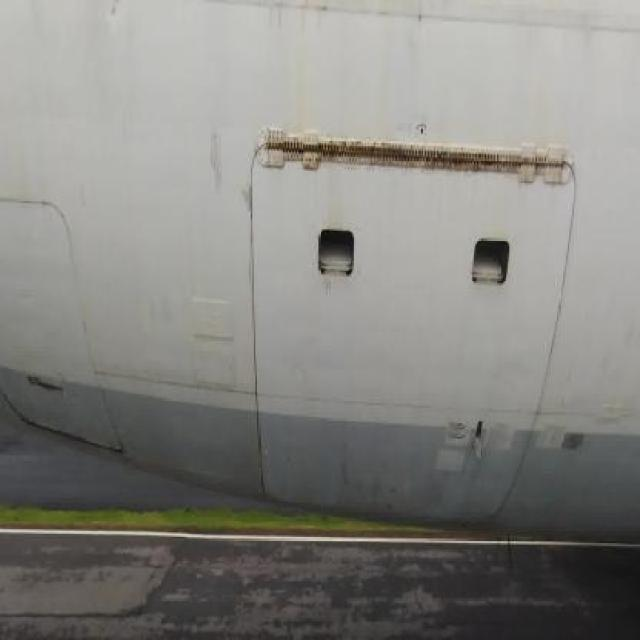Rust: (287, 4, 399, 34)
Scartch: (9, 63, 93, 102)
